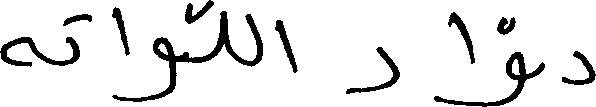X: (475, 12, 524, 106), (348, 42, 398, 98), (140, 32, 172, 106), (453, 7, 473, 106), (63, 9, 88, 70), (564, 46, 595, 89), (0, 32, 33, 71), (115, 2, 127, 105), (277, 15, 295, 77), (183, 0, 198, 67), (246, 9, 261, 71), (219, 6, 227, 56)
